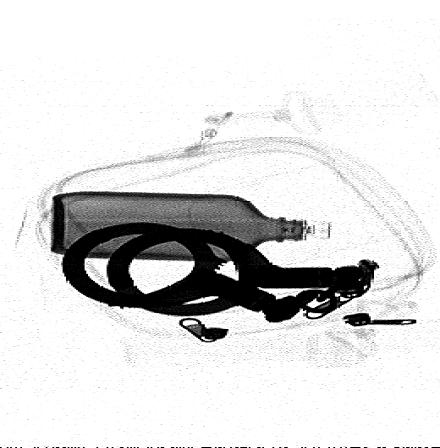HandCuffs: (61, 221, 375, 323)
